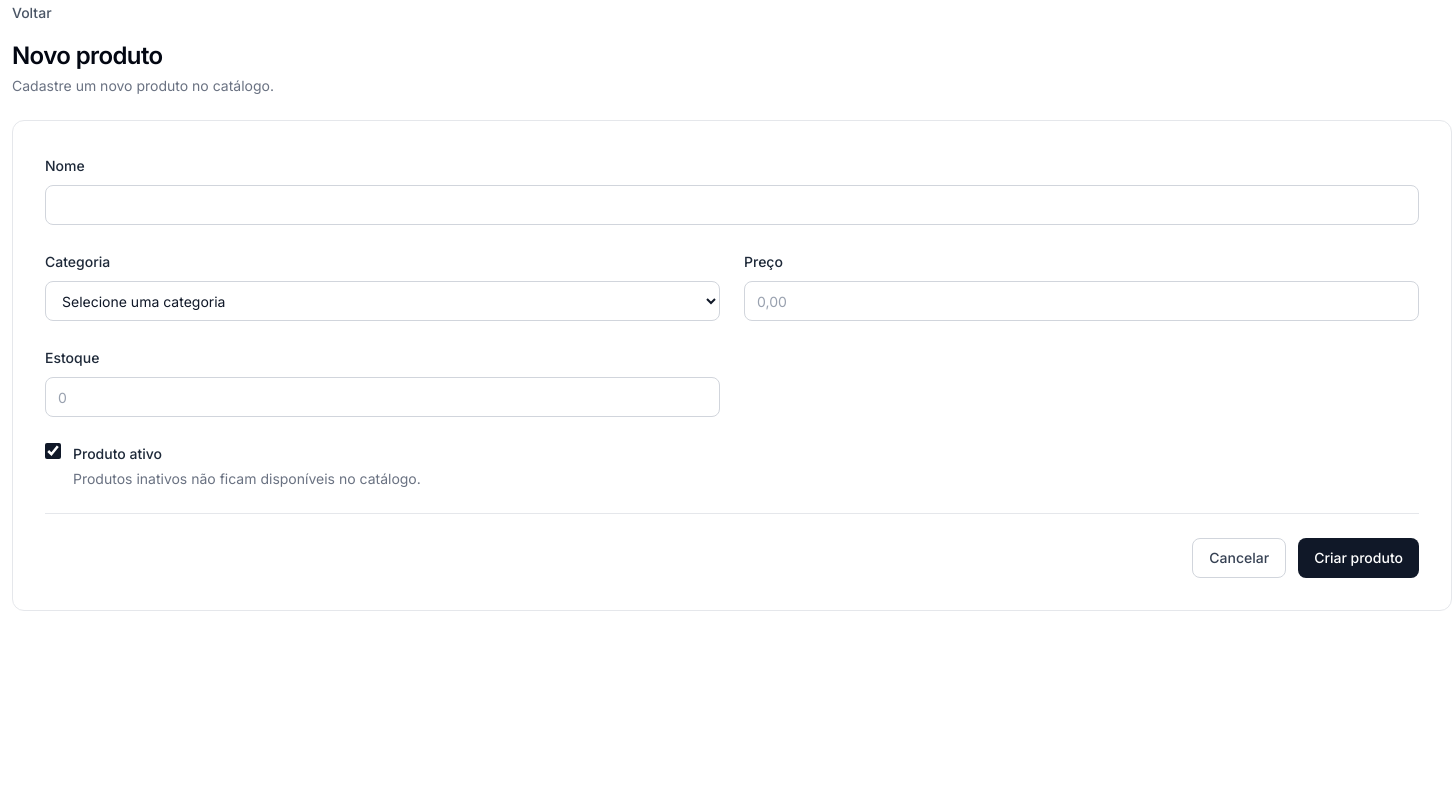
Test: ProductForm › envia os dados válidos convertidos para o payload do produto
Type "  Teclado mecânico  " into the field labelled "Nome".
click(732, 205); type("  Teclado mecânico  ")  # box top-left (45, 185), bottom-right (1419, 225)
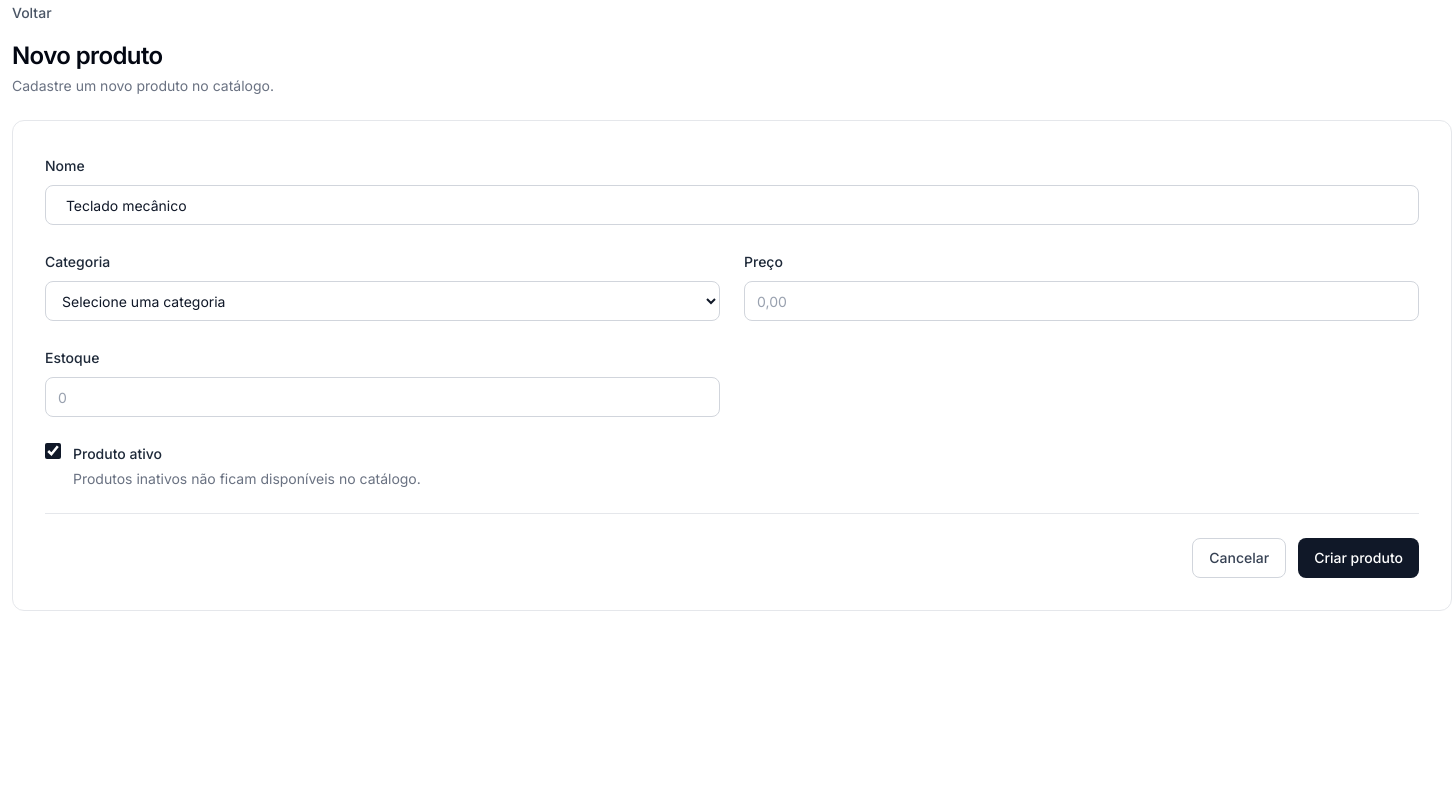
Select "Periféricos" in the dropdown labelled "Categoria" at [382, 301], box top-left (45, 281), bottom-right (720, 321)
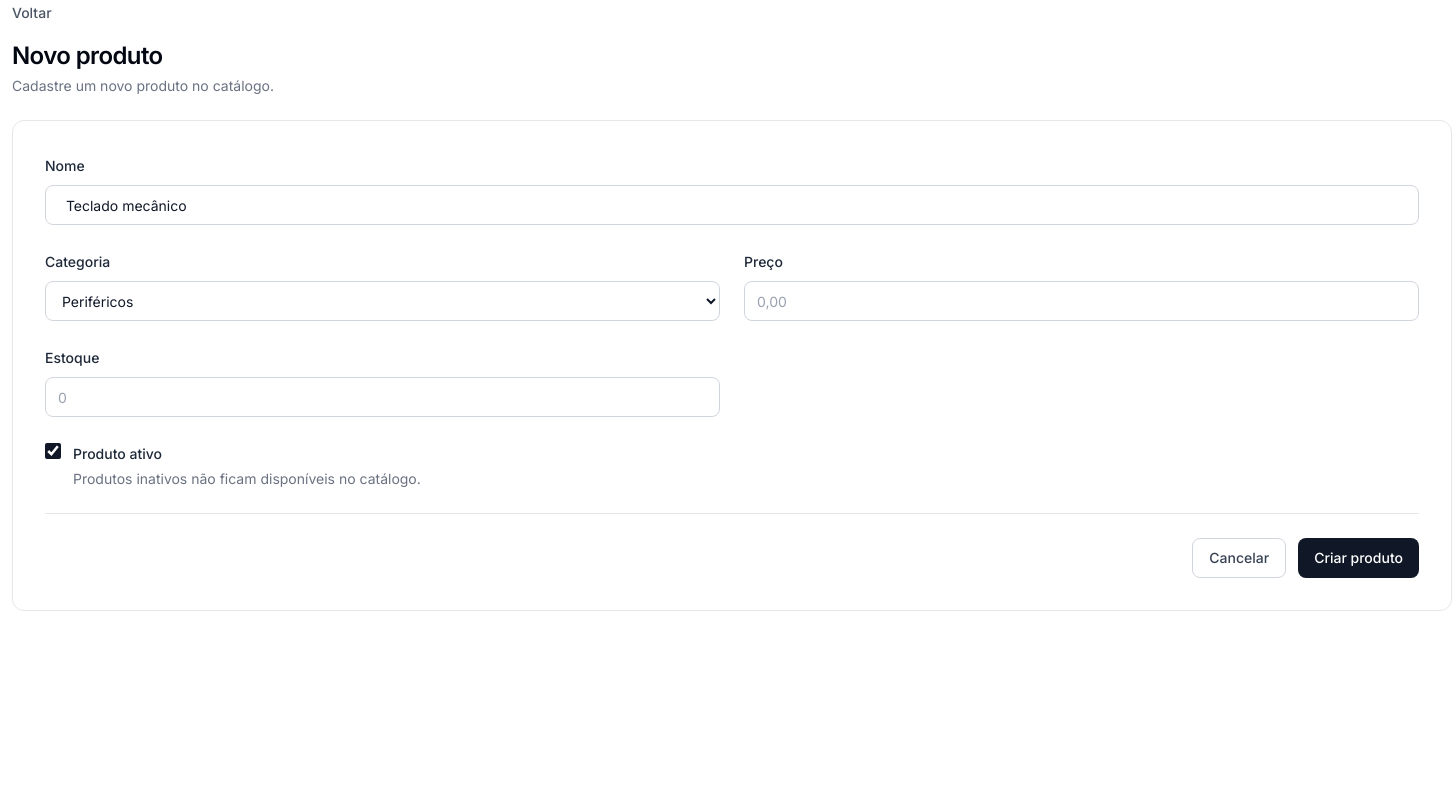
Type "199.90" into the number field labelled "Preço".
click(1082, 301); type("199.90")  # box top-left (744, 281), bottom-right (1419, 321)
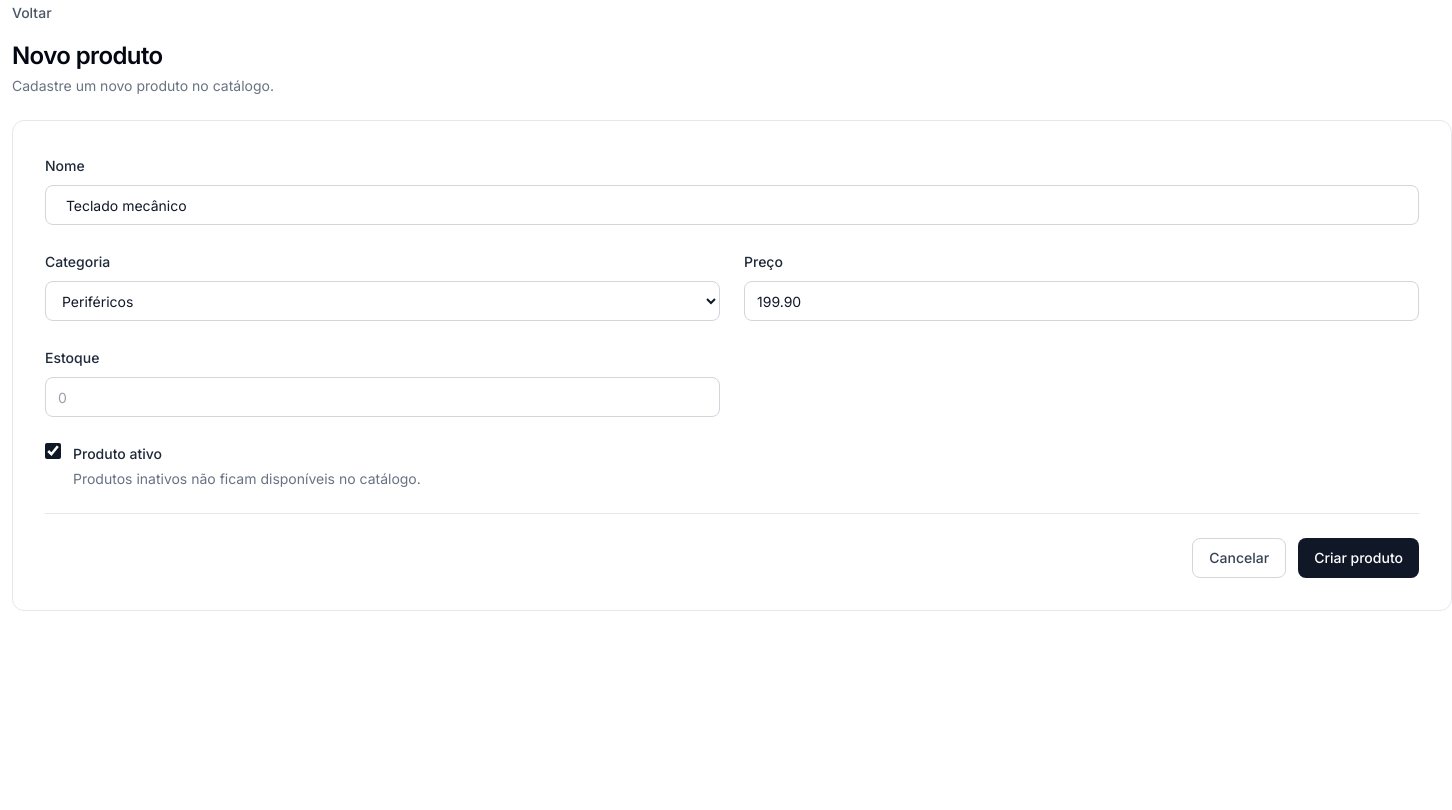
Type "4" into the number field labelled "Estoque".
click(382, 397); type("4")  # box top-left (45, 377), bottom-right (720, 417)
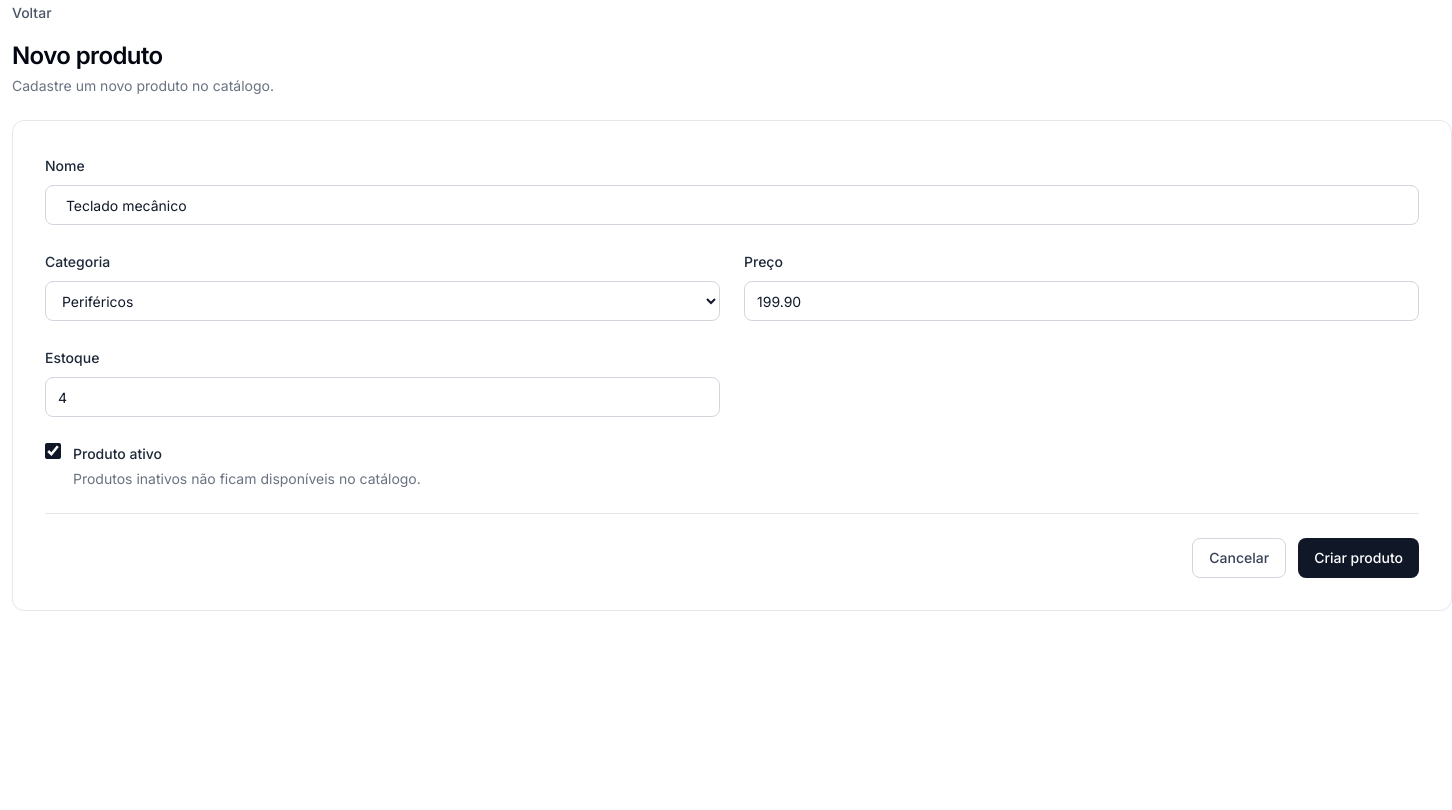
Click the button "Criar produto".
click(1359, 558)  # box top-left (1298, 538), bottom-right (1419, 578)
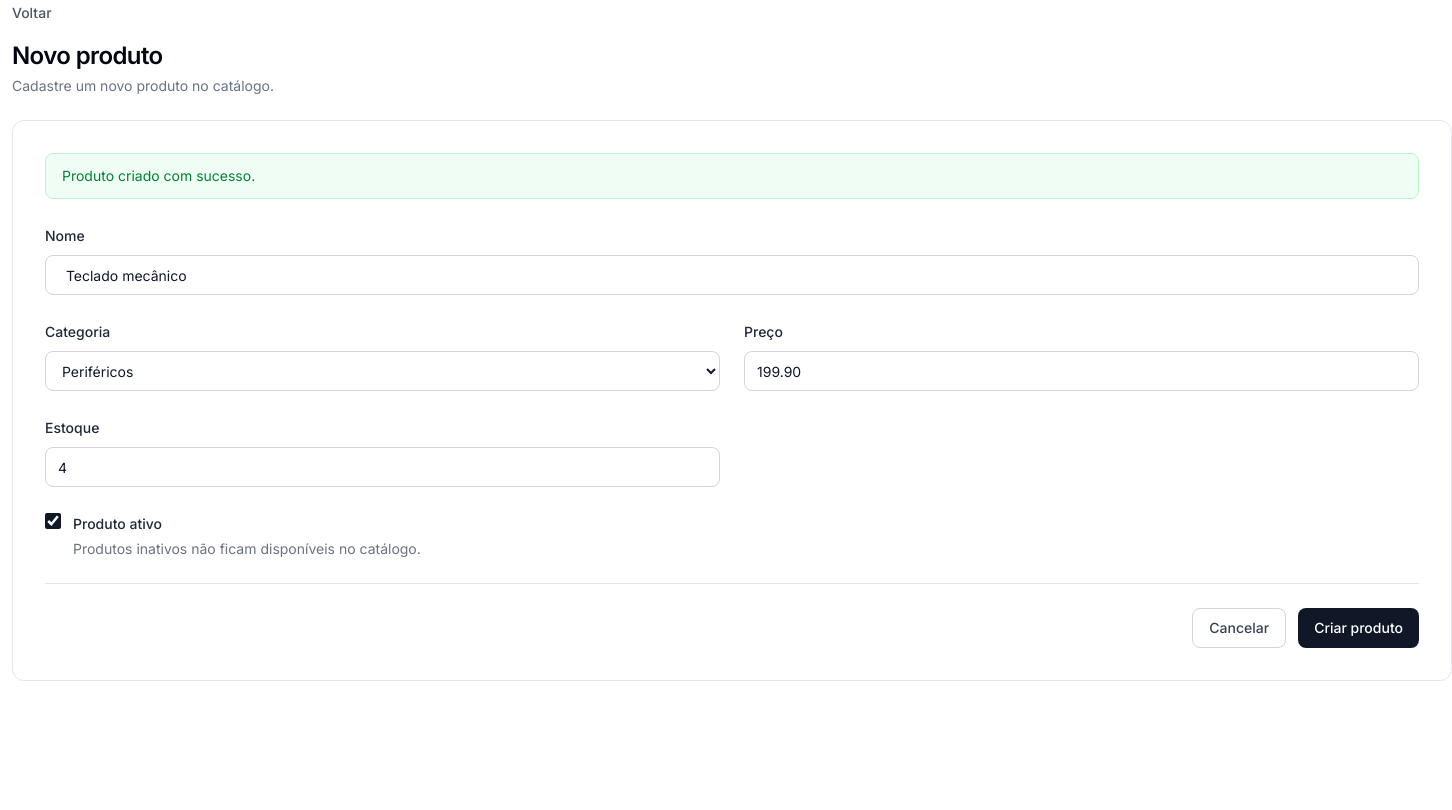
expect the text "Produto criado com sucesso." is shown: met, box top-left (45, 153), bottom-right (1419, 199)
